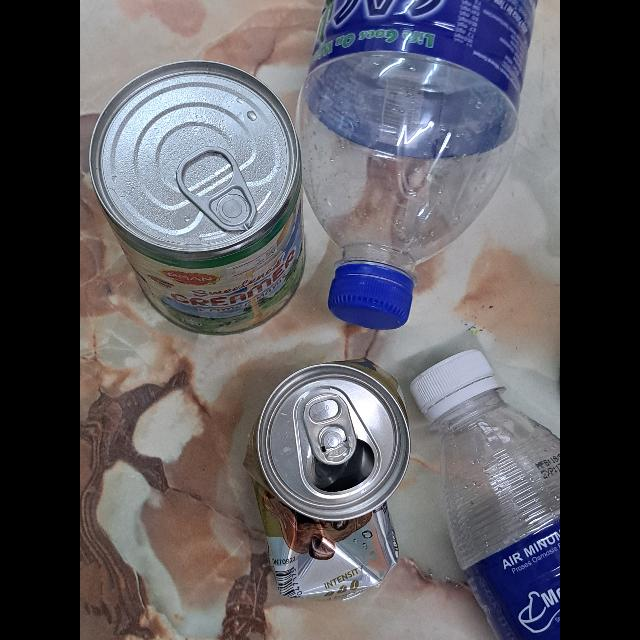aba de lata: (176, 148, 256, 232), (303, 394, 357, 466)
garrafa plástica: (298, 0, 536, 282), (436, 394, 560, 640)
lata: (89, 60, 307, 336), (244, 356, 408, 602)
tampa plástica: (408, 347, 494, 418), (326, 266, 416, 330)
